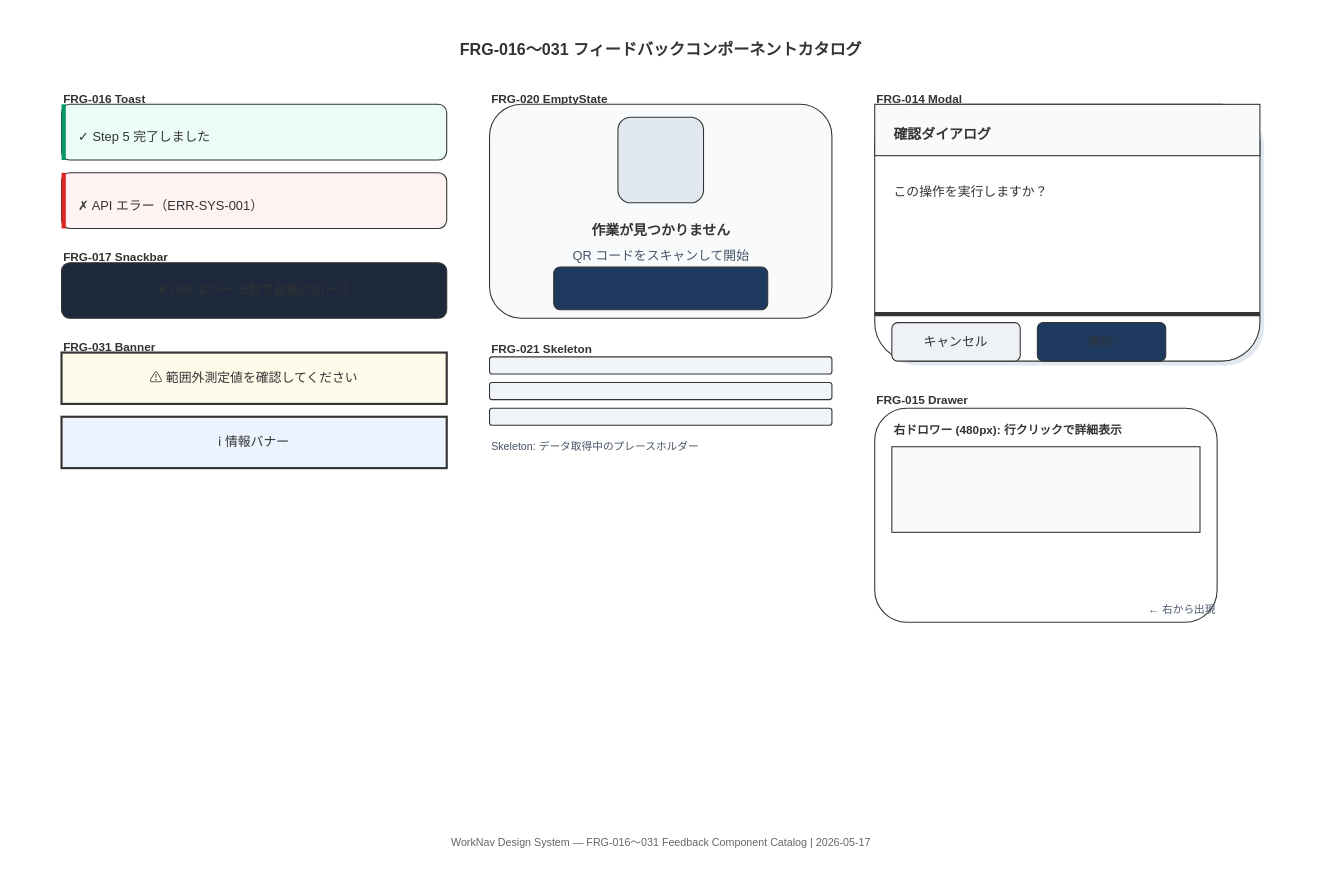
The diagram is 1320 pixels wide and 892 high, and some of its shapes have lost their labels. The centre of each missing label's shape, as x and y in pixels:
QR スキャン: (x=660, y=288)
{ "id": "OP-001", "name": "溶接", "status": "active" }: (x=1045, y=489)
